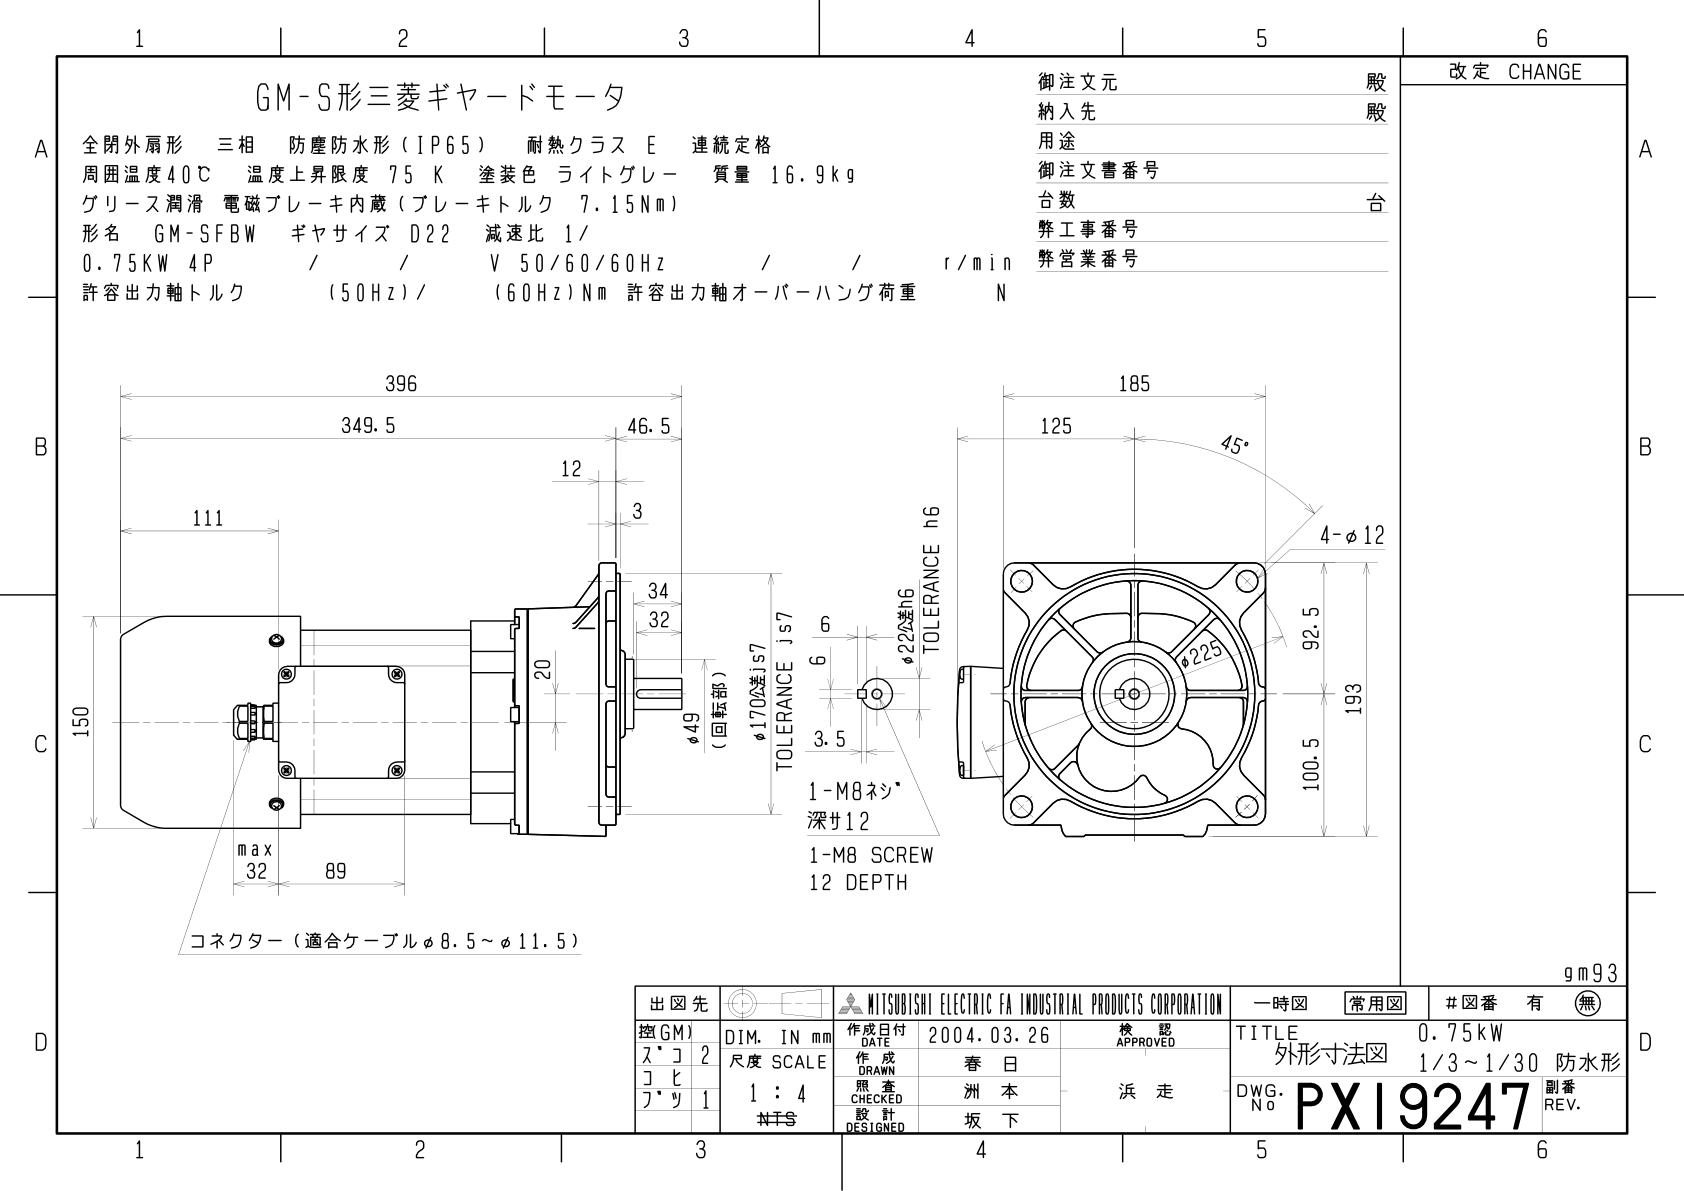GM_S_IP65＿三相_フランジ: (15, 5, 1684, 1191)
